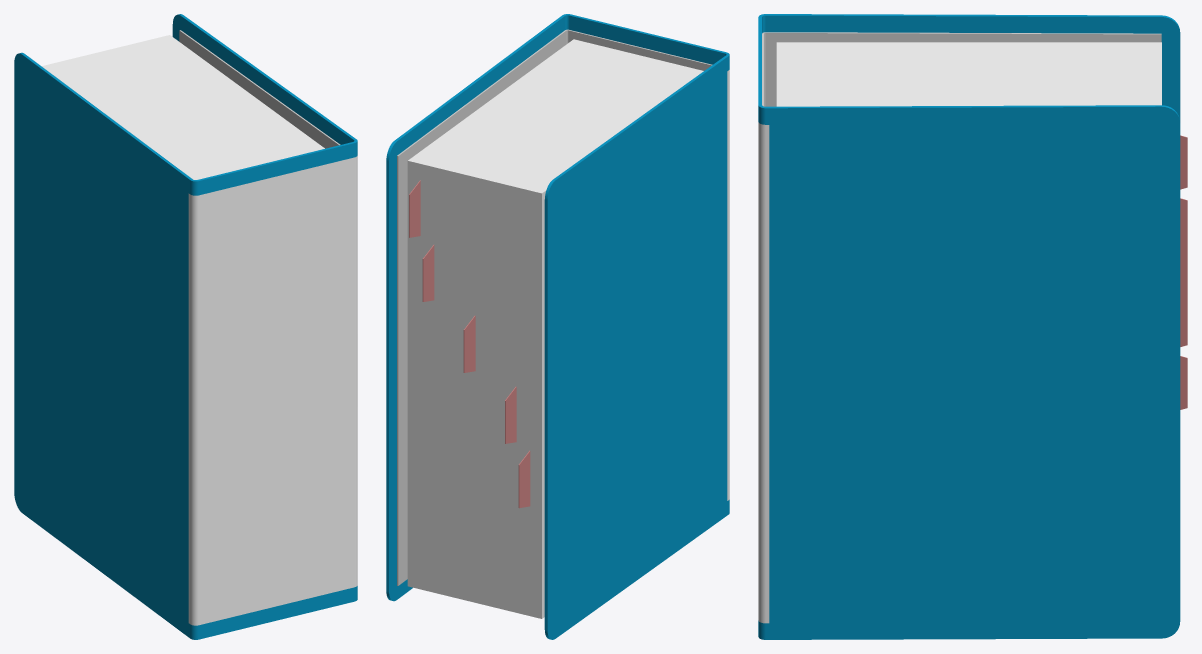
File: 454_パイプ式ファイル太中身あり.glb
3 renders of one model, left to right at view 1: azimuth 30°, elevation 25°; view 2: azimuth 150°, elevation 25°; view 3: azimuth 270°, elevation 25°, orthographic. The views are drawn at different scales.
Parts seen in each view (by area): view 1: 454_pipe_file_L_with_contents; view 2: 454_pipe_file_L_with_contents; view 3: 454_pipe_file_L_with_contents.
Boxes of the visible parts, x1,y1,x2,y2 form: 454_pipe_file_L_with_contents: [14, 14, 357, 639]; 454_pipe_file_L_with_contents: [386, 14, 729, 639]; 454_pipe_file_L_with_contents: [758, 14, 1187, 639].
Size of the model in its own units: 0.1216 by 0.32 by 0.234.
